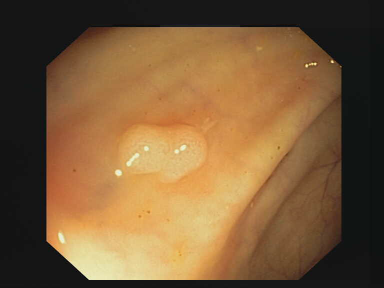polyp: (109, 110, 214, 186)
